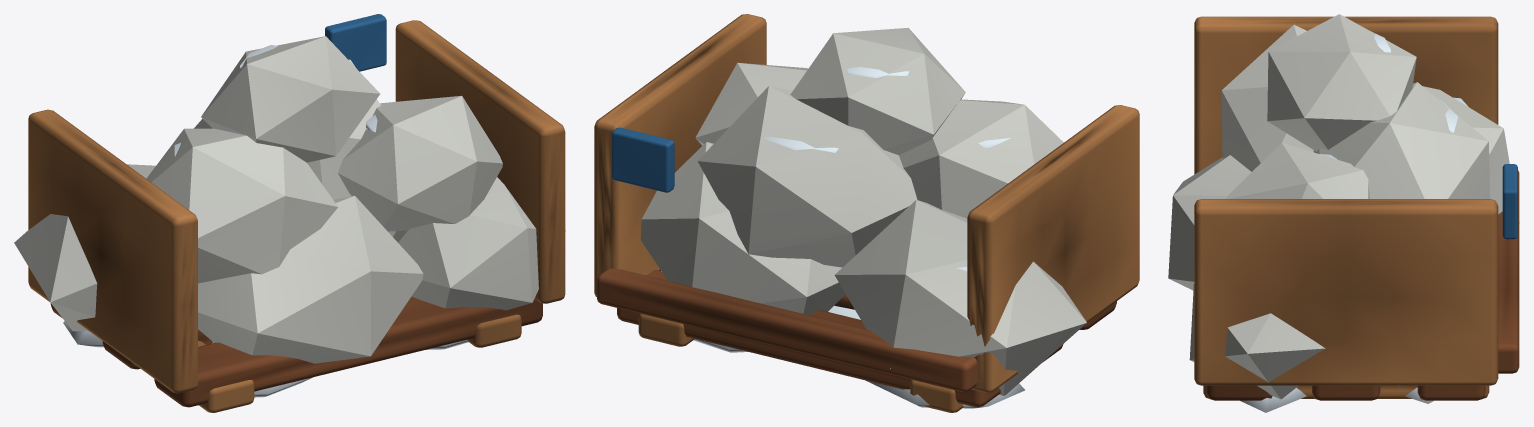
Rendered from stone_stack.glb.
3 renders of one model, left to right at view 1: azimuth 30°, elevation 25°; view 2: azimuth 150°, elevation 25°; view 3: azimuth 270°, elevation 25°, orthographic.
Parts seen in each view (by area): view 1: stone_stack; view 2: stone_stack; view 3: stone_stack.
Part boxes in pixels (<box>): stone_stack: <box>14,14,565,412</box>; stone_stack: <box>594,14,1139,412</box>; stone_stack: <box>1168,14,1519,412</box>.
Size of the model in its own units: 1.75 by 1.08 by 1.16.
